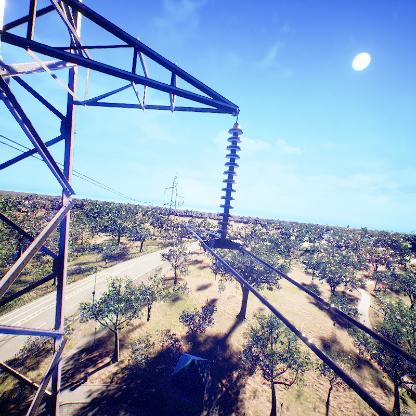insulator: (215, 124, 244, 238)
